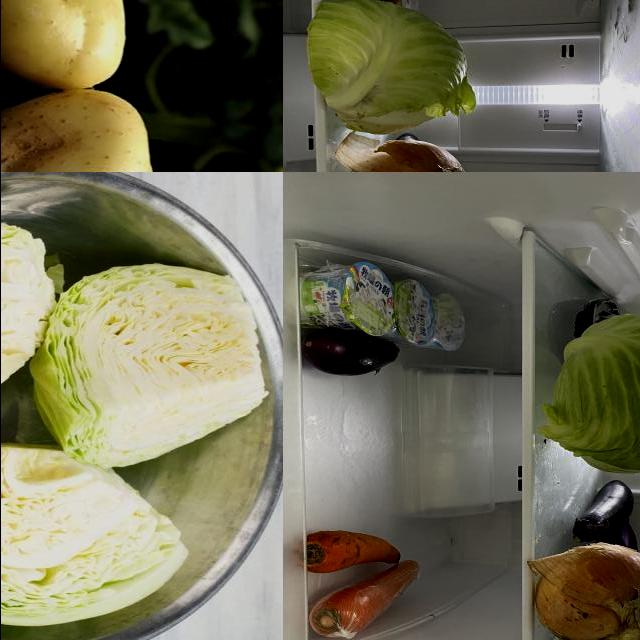cabbage: (25, 265, 271, 473), (1, 436, 194, 628), (307, 1, 478, 134), (1, 219, 67, 483), (541, 317, 640, 472)
carrot: (308, 559, 423, 640), (299, 529, 401, 578)
eggplant: (299, 331, 401, 379), (576, 482, 638, 540), (609, 521, 639, 553)
onion: (531, 542, 640, 640), (349, 138, 472, 173)
potato: (1, 91, 158, 173), (1, 1, 126, 91)
